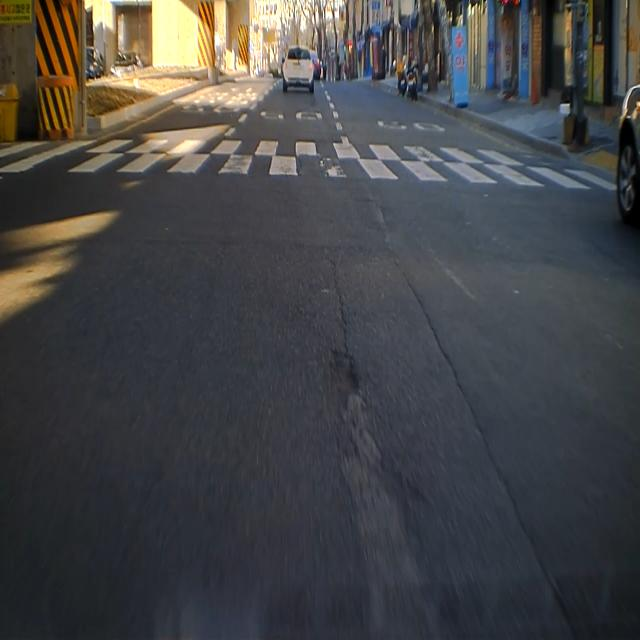Pothole: (326, 343, 370, 425)
